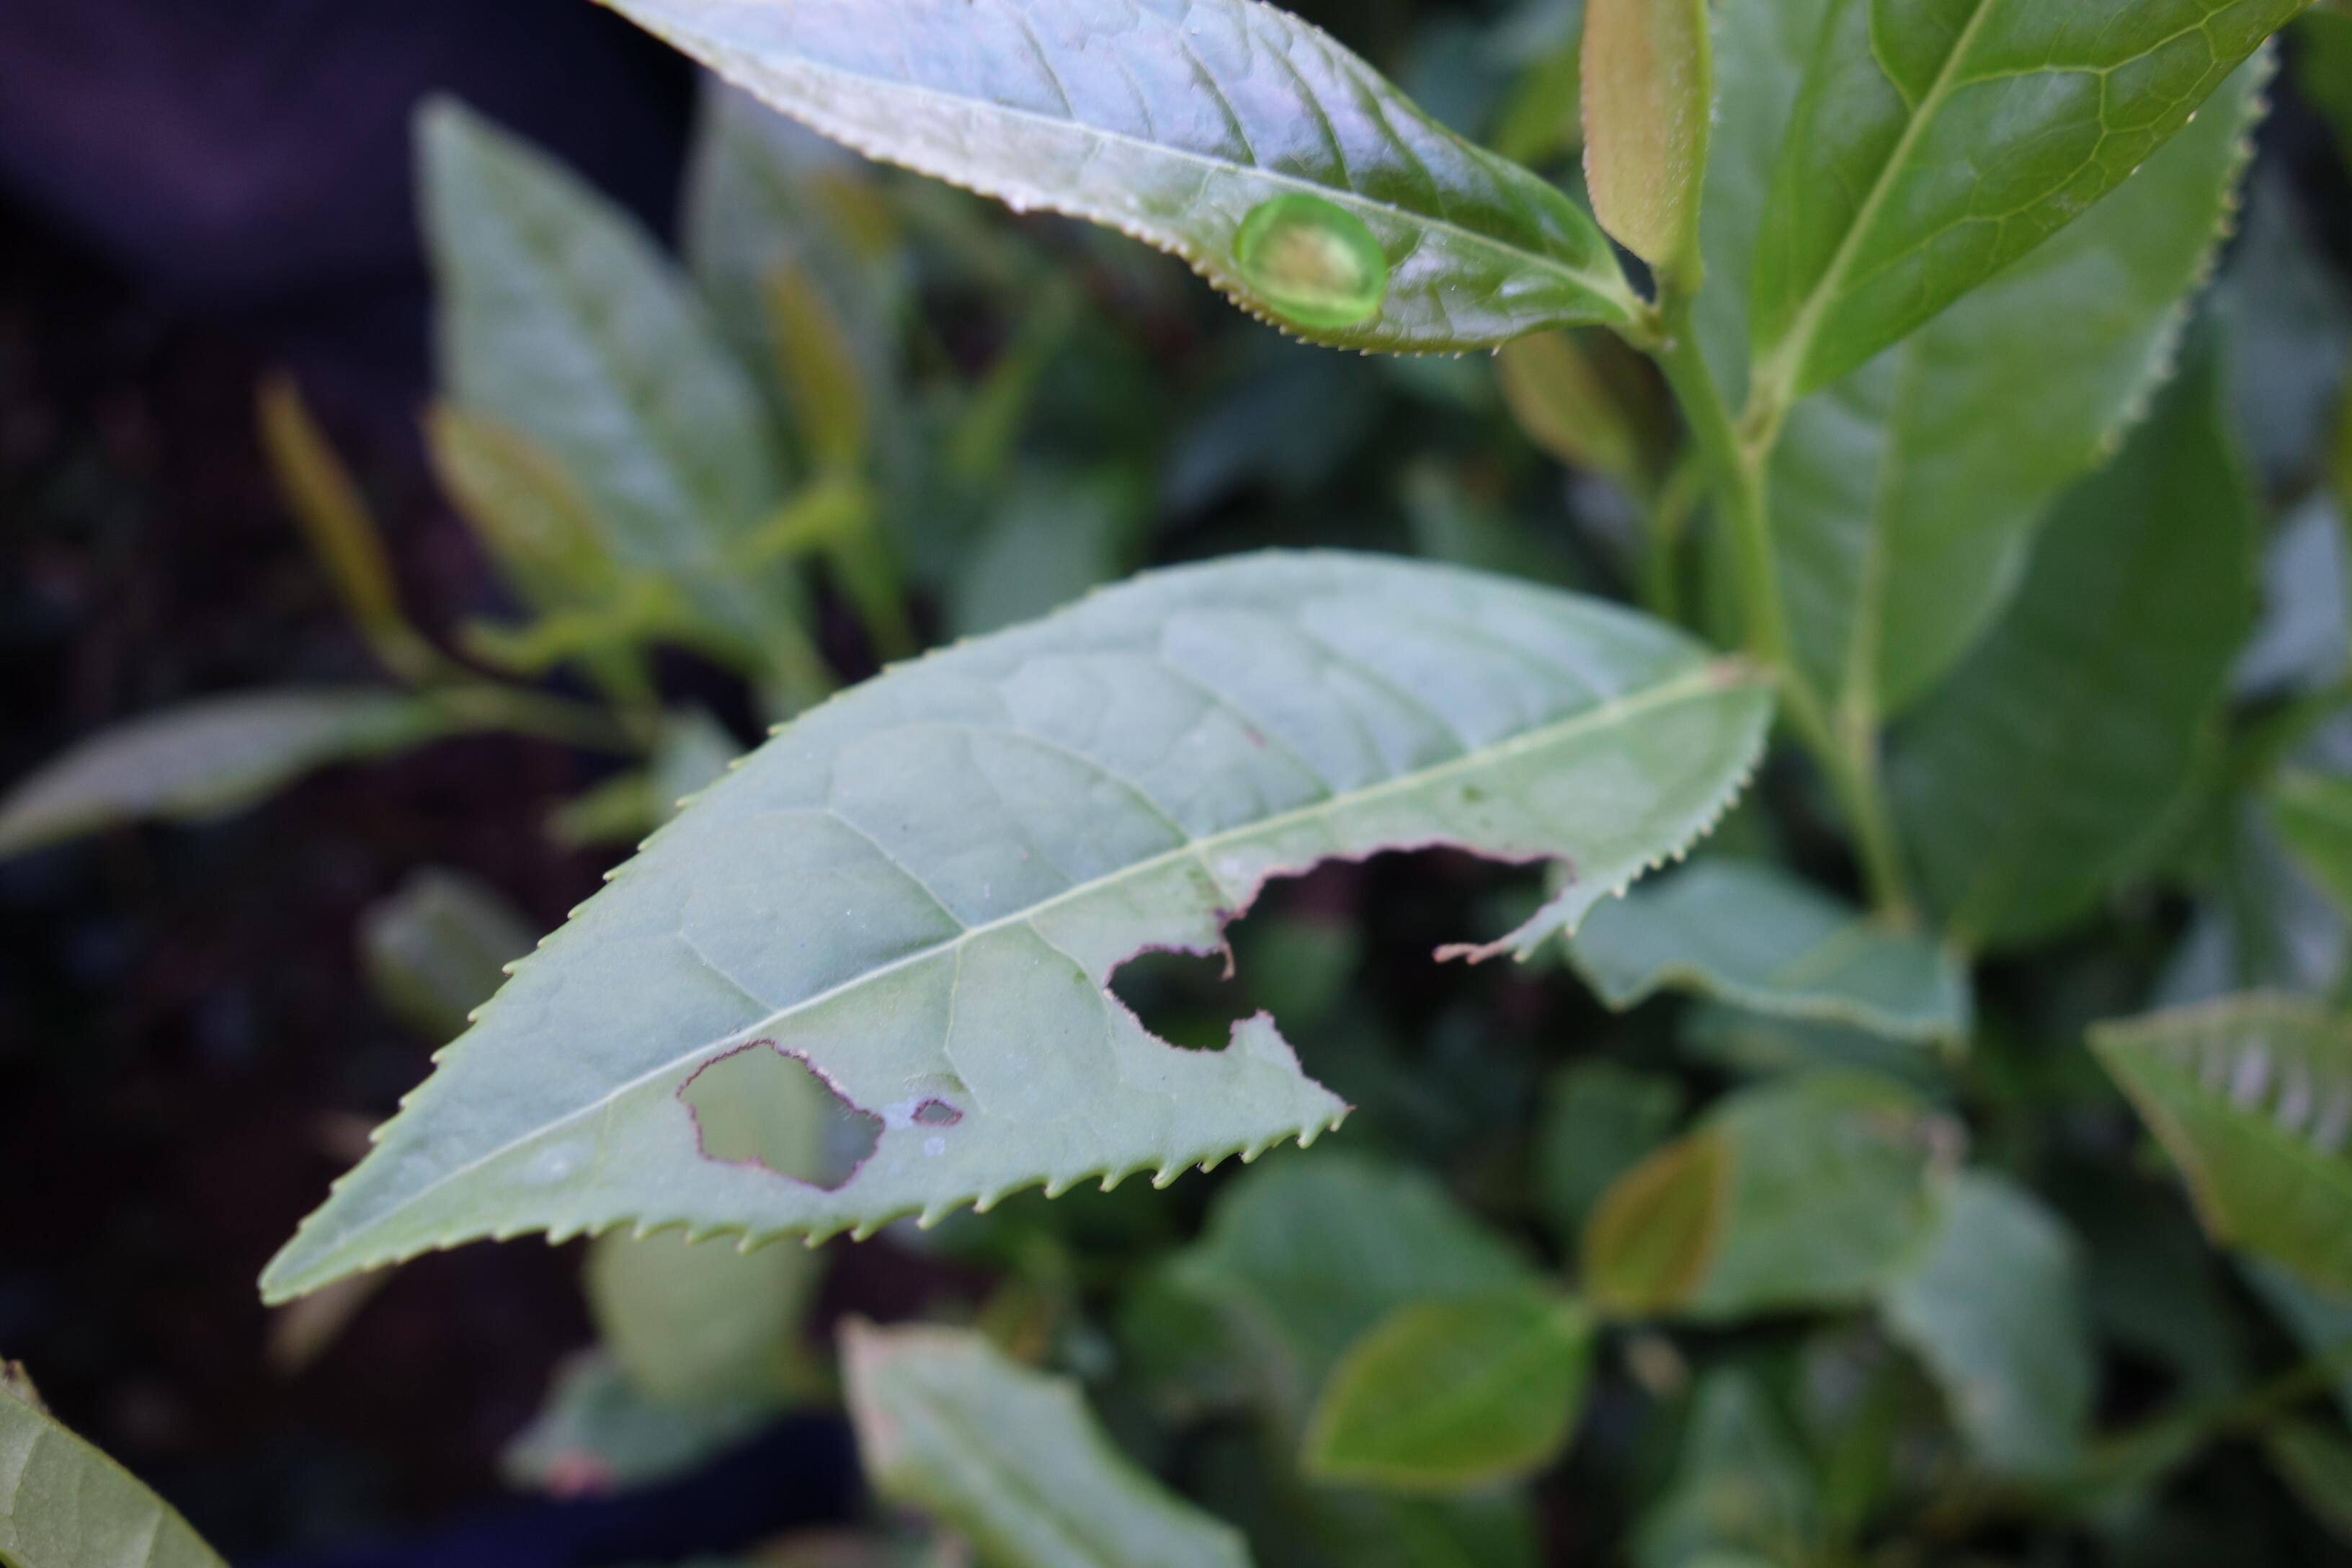chabing_low: (595, 3, 1655, 362)
chihuo_high: (252, 546, 1783, 1311)
